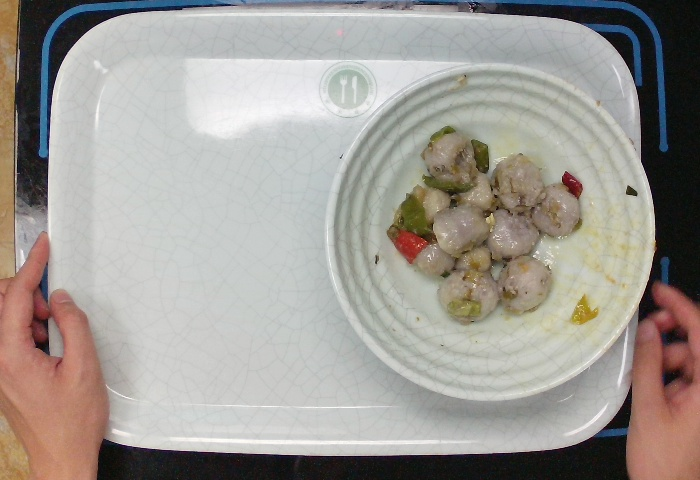JYsf-Da_Tang_Wan: (322, 61, 657, 404)
